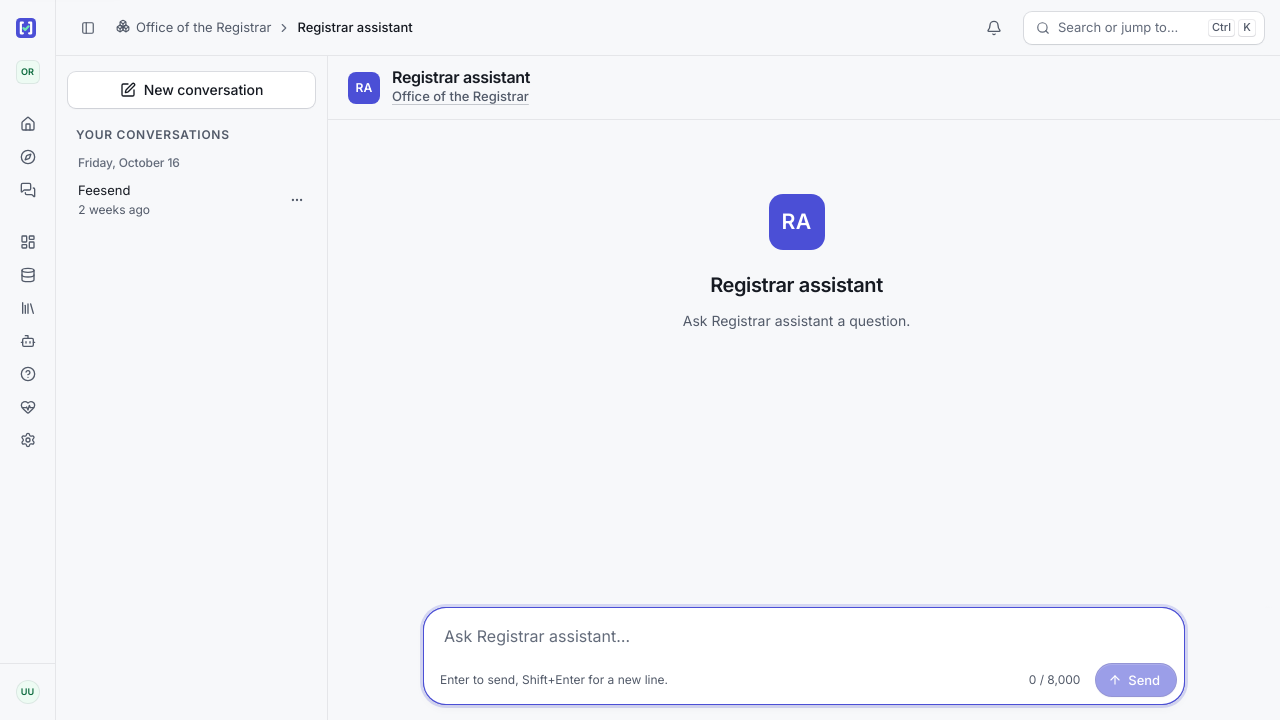
Test: conversation titles and questions › isolates a title in the chat's list, in the Share dialog's sentence and in the delete question
The image size is (1280, 720).
Click the button named "Actions for Fees dne".
click(297, 200)  # box [281, 184, 313, 216]
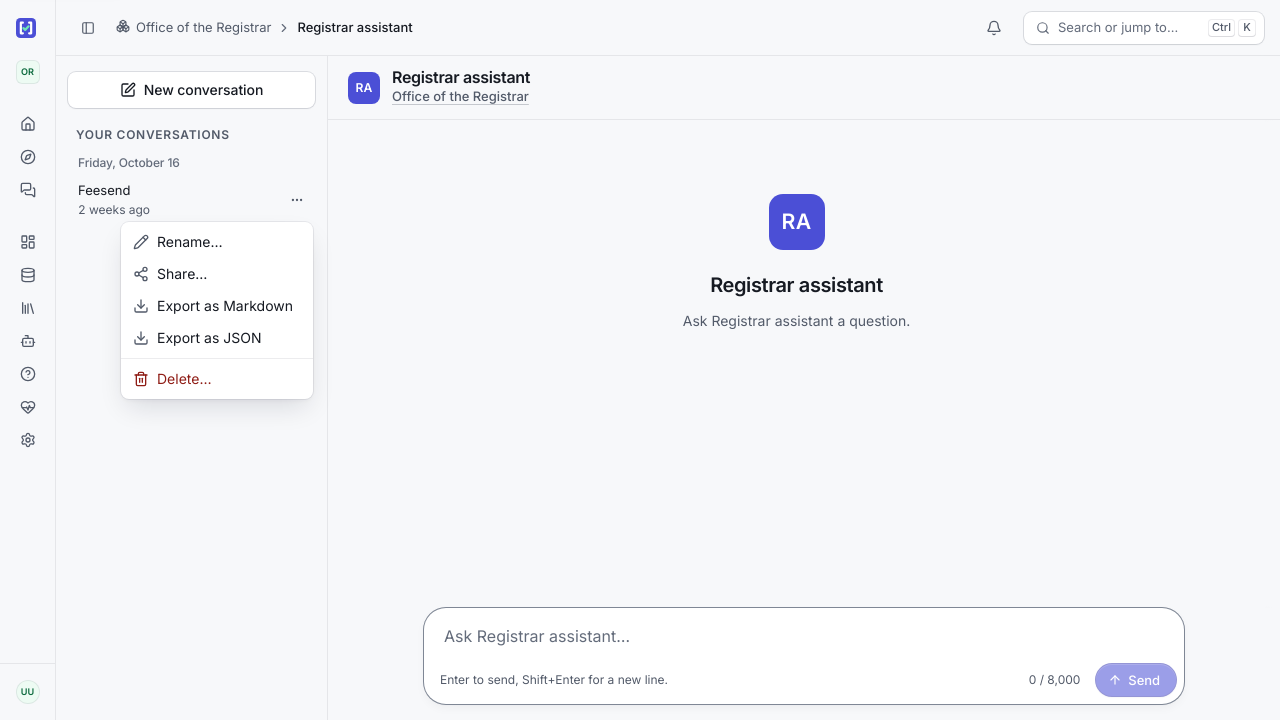
Click the menu item "Share…".
click(170, 274)  # box [133, 265, 207, 282]
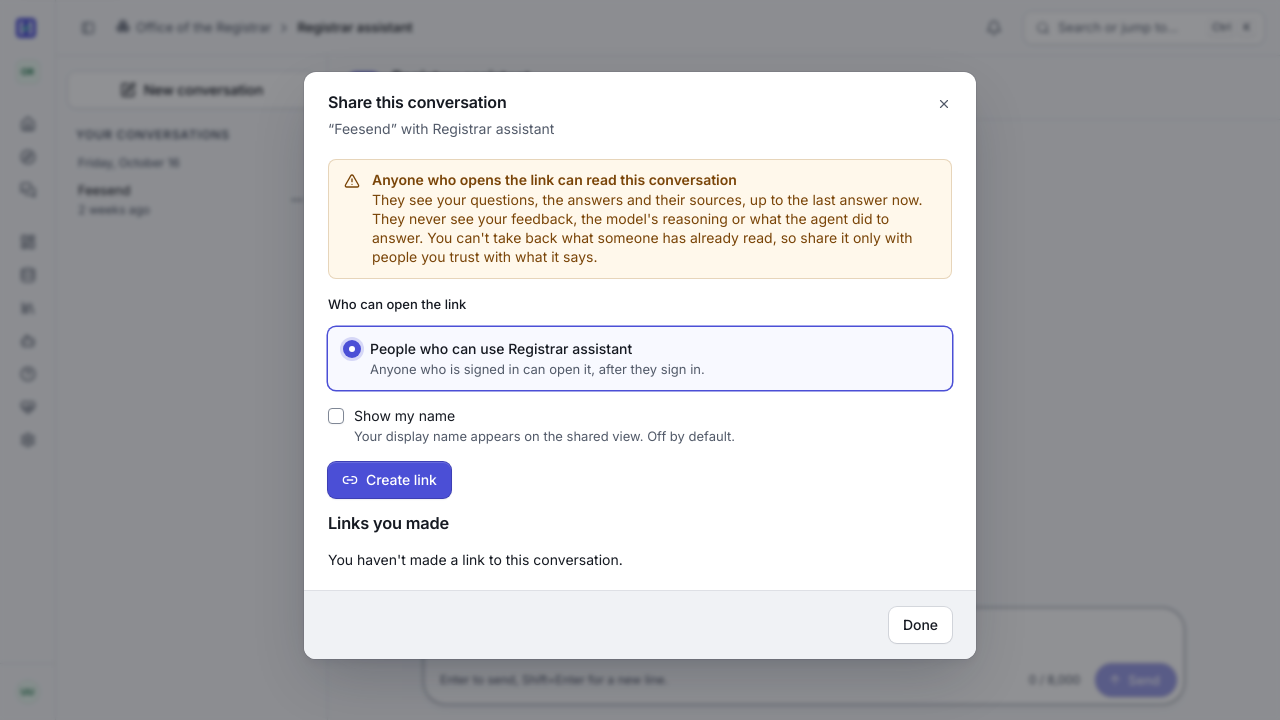
Now the text "Fees dne" is shown, box [334, 120, 391, 137]
Now the text "Registrar assistant" is shown, box [432, 120, 554, 137]
Press Escape
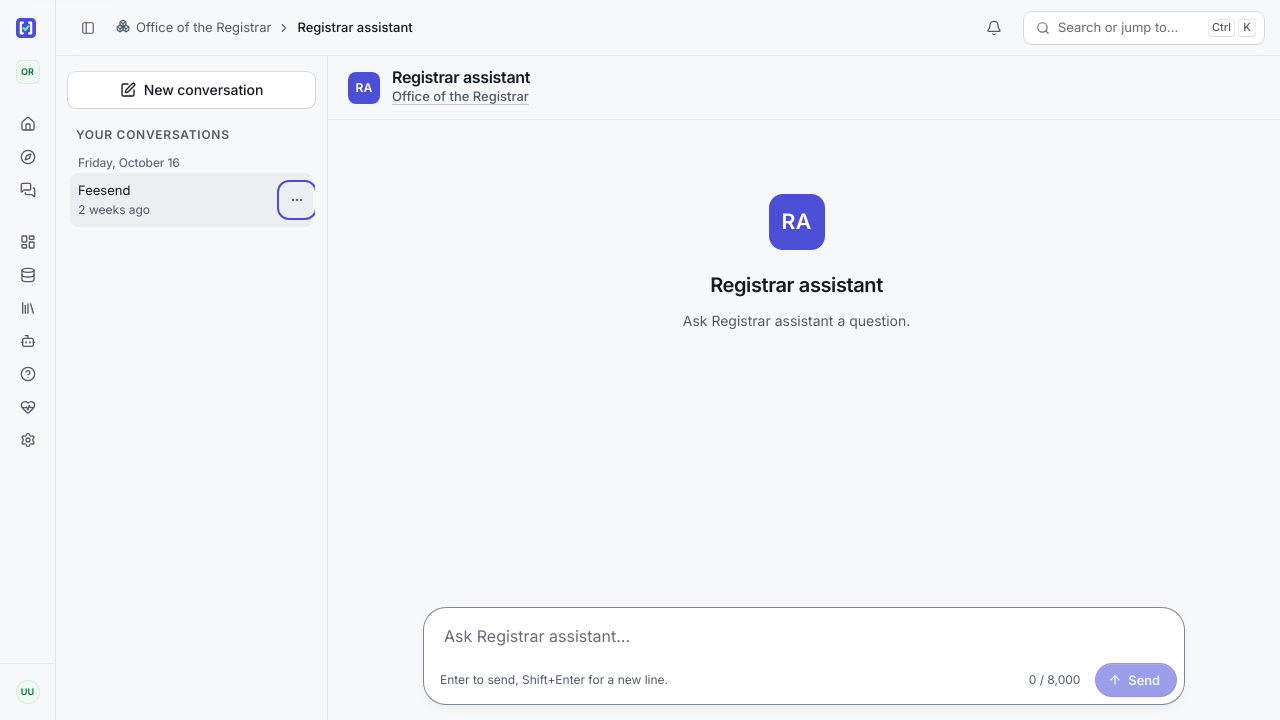
Click the button named "Actions for Fees dne".
click(297, 200)  # box [281, 184, 313, 216]
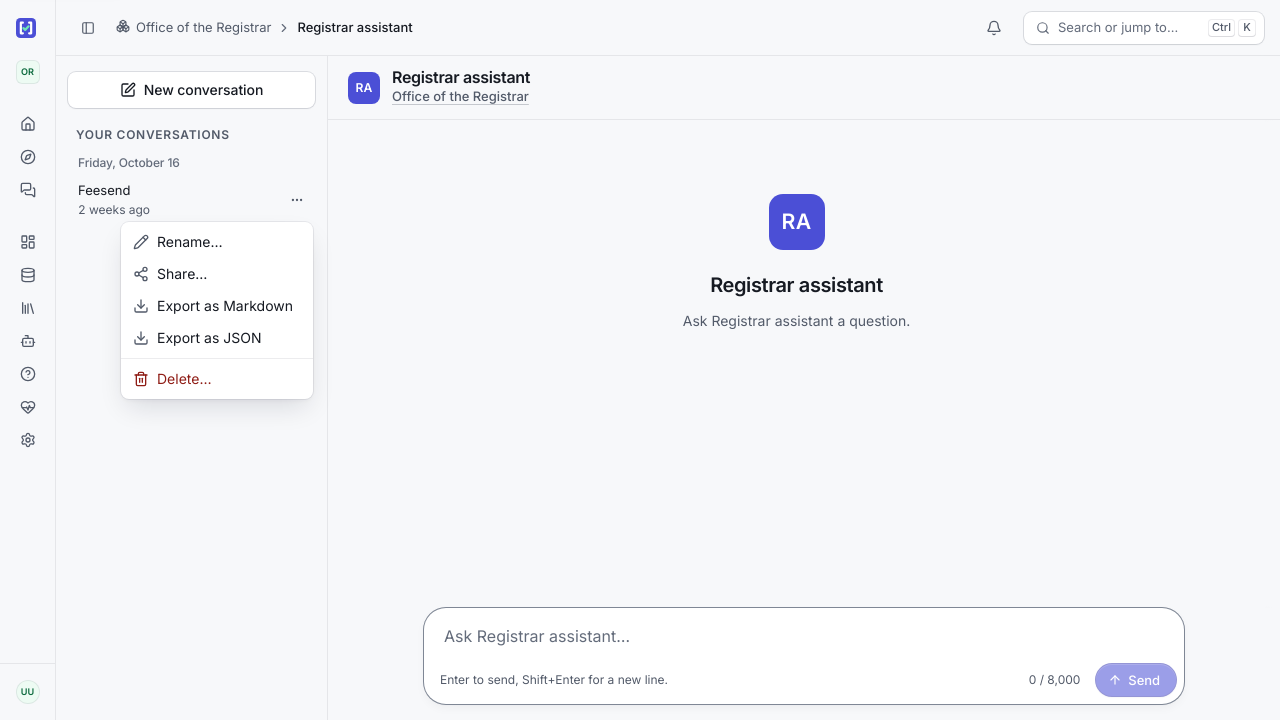
Click the menu item "Delete…".
click(172, 378)  # box [133, 370, 212, 387]
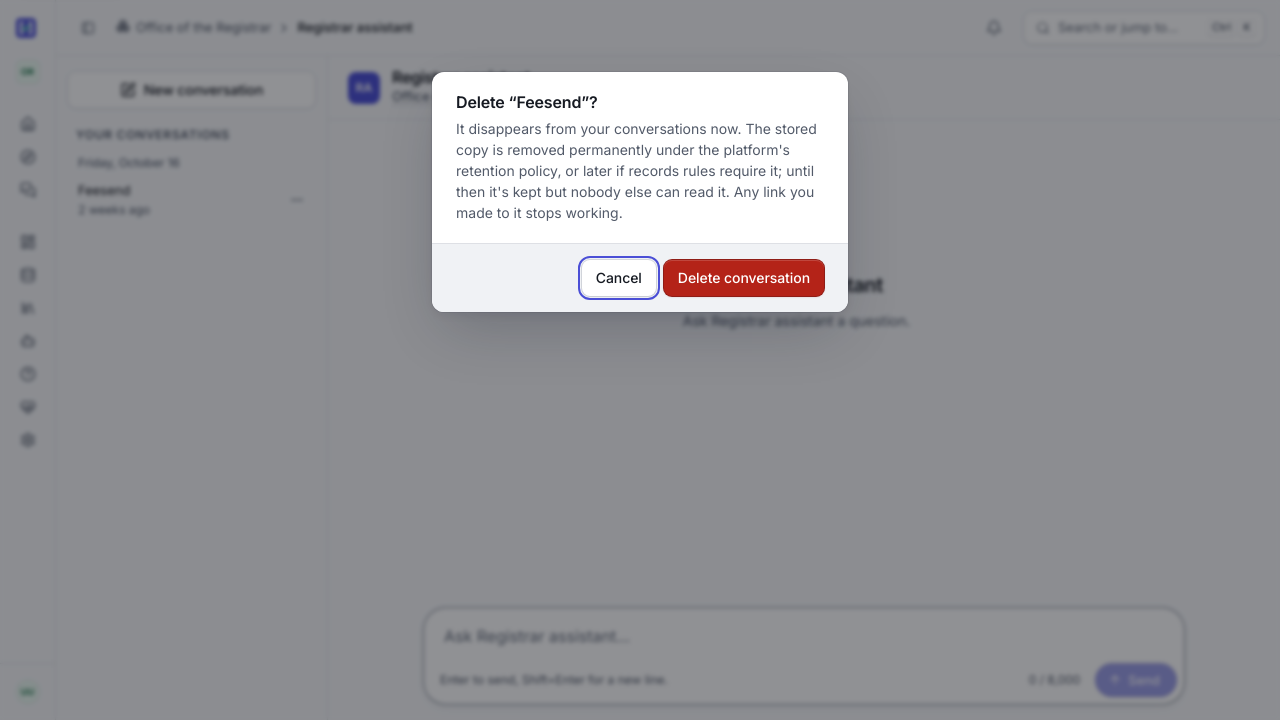
Now the text "Fees dne" is shown, box [516, 92, 581, 112]
